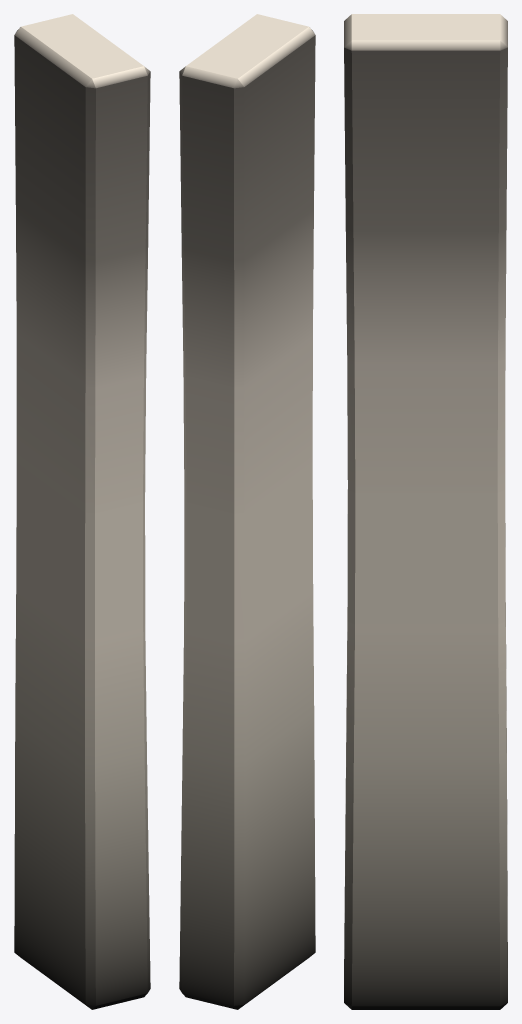
The model's file is SM_VKI_Post_Wattle_Mid_Full.fbx.
The picture shows the model from 3 angles, left to right: view 1: azimuth 30°, elevation 25°; view 2: azimuth 150°, elevation 25°; view 3: azimuth 270°, elevation 25°; orthographic projection. The views are drawn at different scales.
Visible parts, largest first — view 1: SM_VKI_Post_Wattle_Mid_Full.001; view 2: SM_VKI_Post_Wattle_Mid_Full.001; view 3: SM_VKI_Post_Wattle_Mid_Full.001.
Part boxes in pixels (<box>): SM_VKI_Post_Wattle_Mid_Full.001: <box>14,14,150,1009</box>; SM_VKI_Post_Wattle_Mid_Full.001: <box>179,14,315,1009</box>; SM_VKI_Post_Wattle_Mid_Full.001: <box>344,14,507,1009</box>.
Size of the model in its own units: 0.2 by 2.74 by 0.42.
